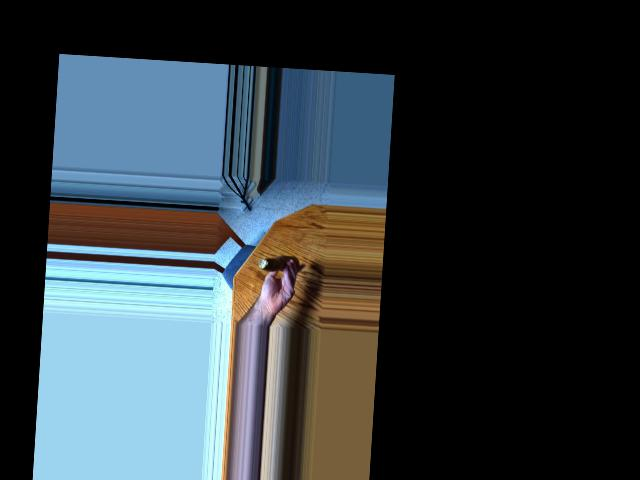sweet_potato: (264, 254, 297, 274)
